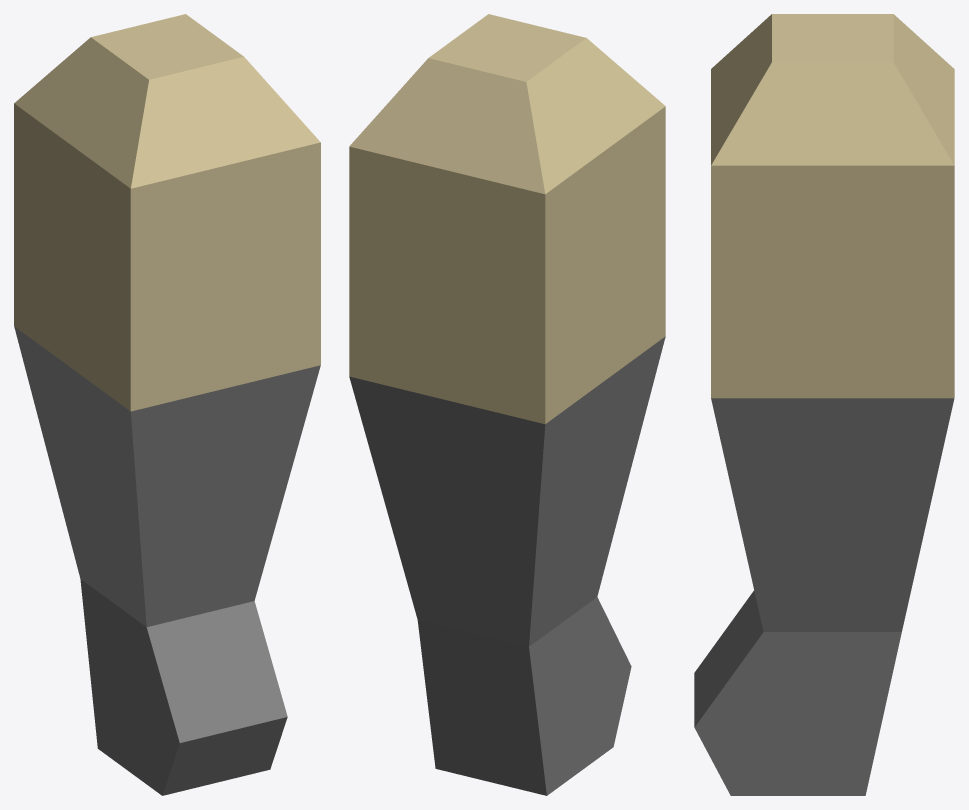
The model's file is Bandit5LowerArm.fbx.
The picture shows the model from 3 angles, left to right: view 1: azimuth 30°, elevation 25°; view 2: azimuth 150°, elevation 25°; view 3: azimuth 270°, elevation 25°; orthographic projection. The views are drawn at different scales.
Visible parts, largest first — view 1: Bandit5LowerArm; view 2: Bandit5LowerArm; view 3: Bandit5LowerArm.
Boxes of the visible parts, <box> form: Bandit5LowerArm: <box>14,14,320,795</box>; Bandit5LowerArm: <box>349,14,665,795</box>; Bandit5LowerArm: <box>694,14,954,795</box>.
Size of the model in its own units: 0.1568 by 0.552 by 0.1781.
